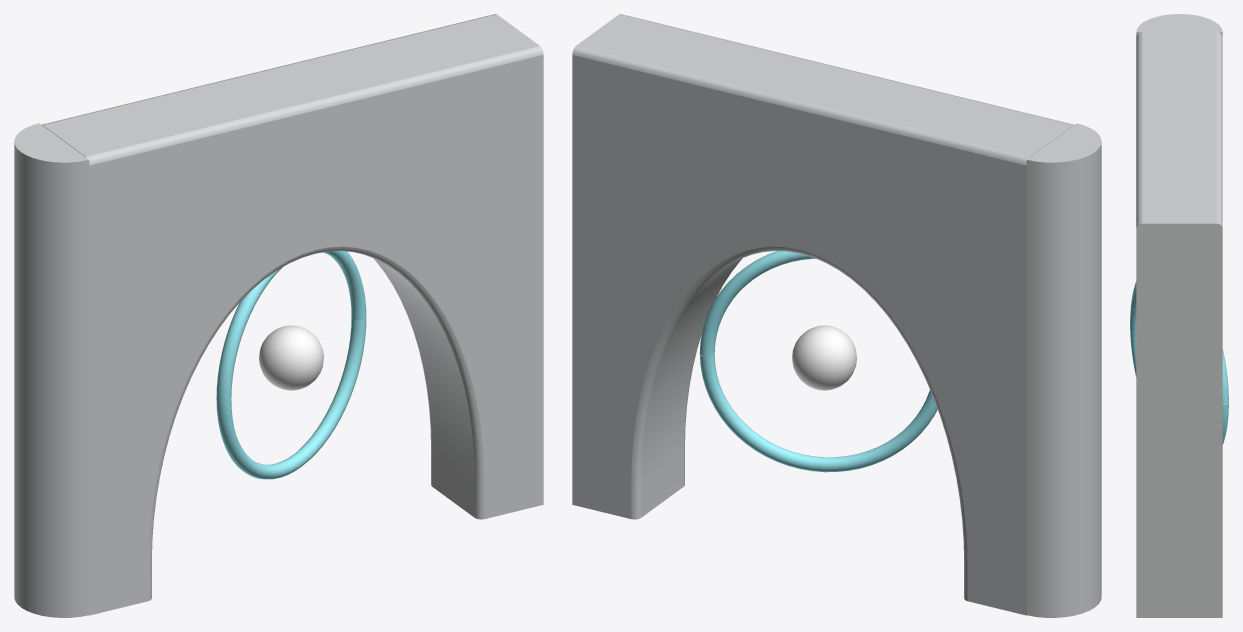
The model's file is Arch_R2D08_HaloOrbit.fbx.
3 renders of one model, left to right at view 1: azimuth 30°, elevation 25°; view 2: azimuth 150°, elevation 25°; view 3: azimuth 270°, elevation 25°, orthographic. The views are drawn at different scales.
Visible parts, largest first — view 1: Arch_R2D08_HaloOrbit; view 2: Arch_R2D08_HaloOrbit; view 3: Arch_R2D08_HaloOrbit.
Boxes of the visible parts, x1,y1,x2,y2 form: Arch_R2D08_HaloOrbit: [14, 14, 543, 617]; Arch_R2D08_HaloOrbit: [572, 14, 1101, 617]; Arch_R2D08_HaloOrbit: [1130, 14, 1228, 617].
Size of the model in its own units: 2.29 by 2.01 by 0.457.
